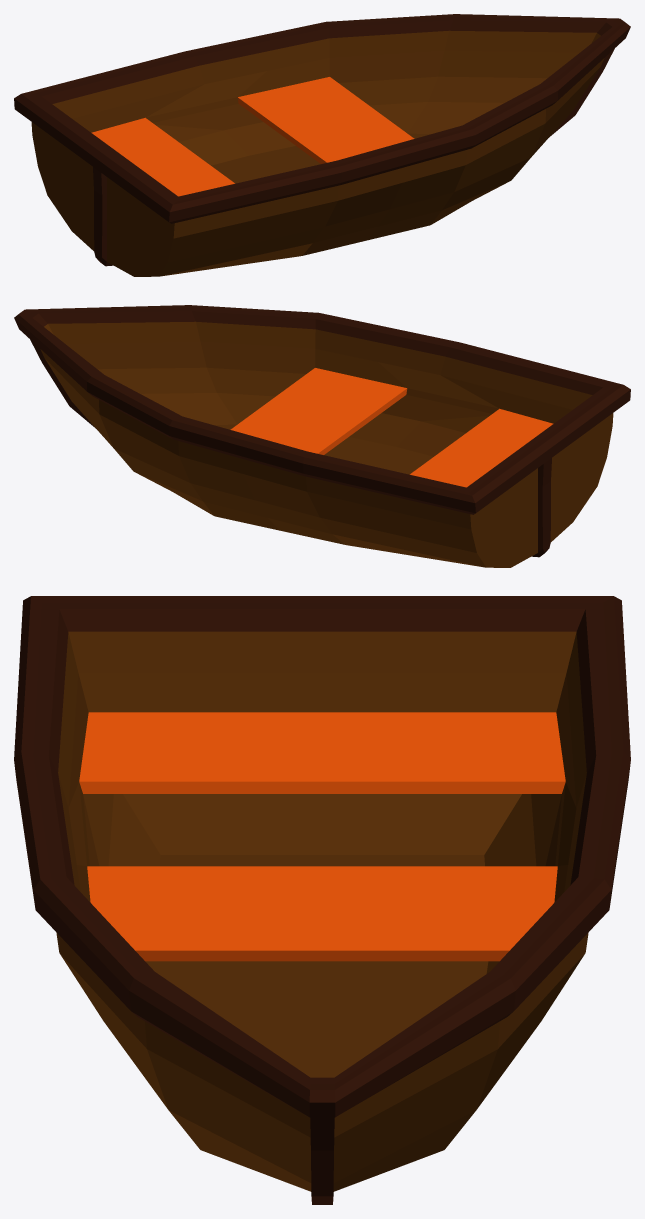
Rendered from Boat.fbx.
3 renders of one model, top to bottom at view 1: azimuth 30°, elevation 25°; view 2: azimuth 150°, elevation 25°; view 3: azimuth 270°, elevation 25°, orthographic. The views are drawn at different scales.
Visible parts, largest first — view 1: Boat; view 2: Boat; view 3: Boat.
Boxes of the visible parts, x1,y1,x2,y2 form: Boat: (14,14,630,276); Boat: (14,305,630,567); Boat: (14,596,630,1204).
Bounding box in the file's own units: 656 × 168 × 340.
